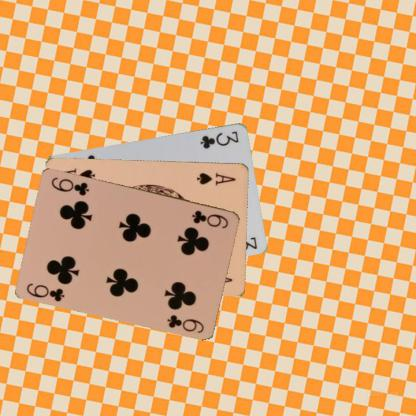3c: (198, 128, 240, 150)
6c: (24, 280, 66, 303), (189, 207, 230, 230)
As: (194, 170, 238, 186)
